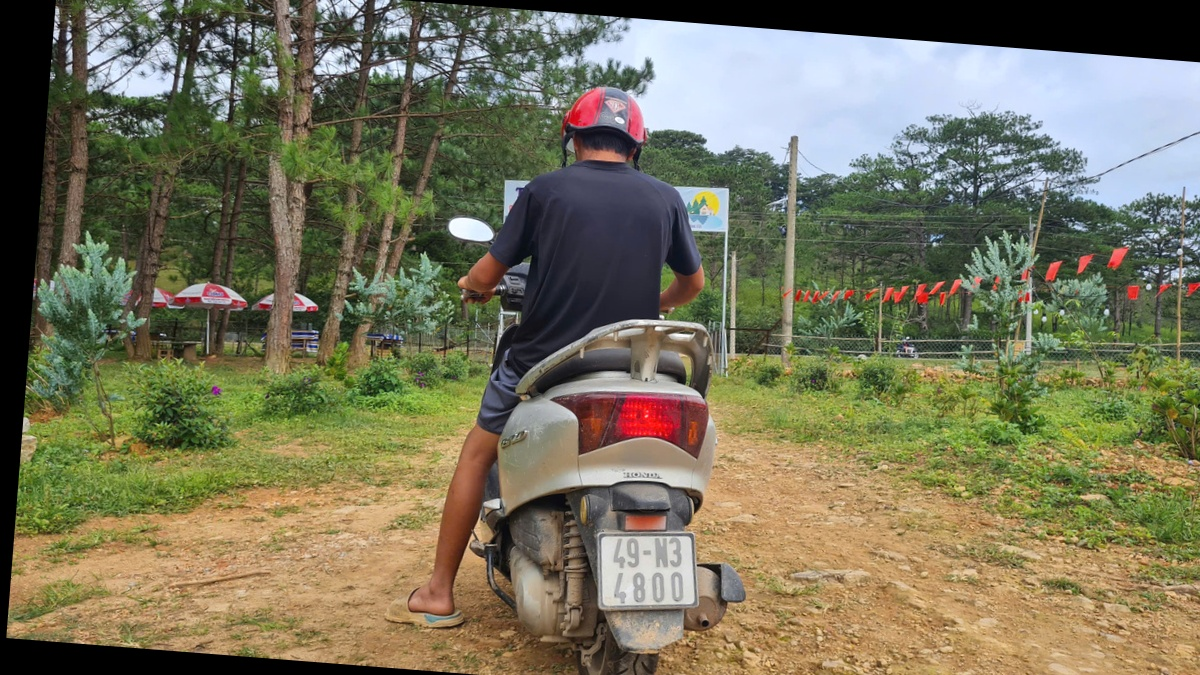Bien-so: (589, 489, 694, 582)
